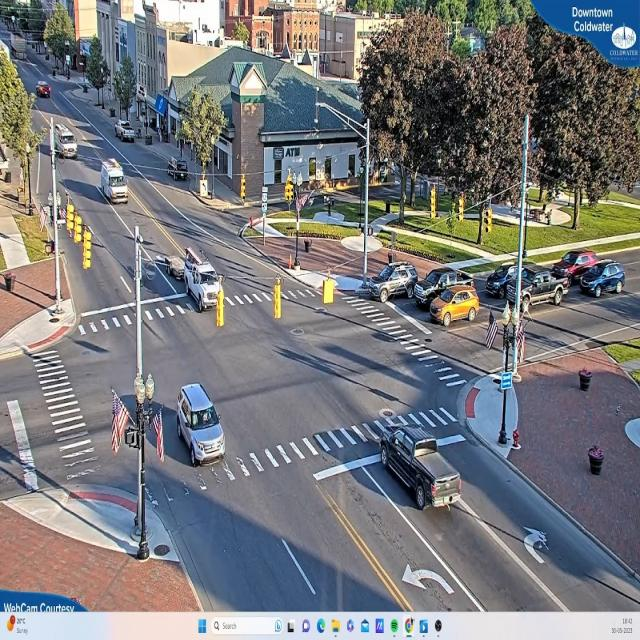car: (379, 422, 461, 509), (176, 384, 226, 467), (487, 266, 566, 308), (410, 266, 477, 308), (185, 263, 226, 313), (370, 265, 419, 302), (430, 290, 480, 326), (579, 264, 628, 298), (551, 251, 602, 280), (99, 156, 130, 203), (56, 134, 77, 157), (116, 122, 137, 144), (38, 84, 52, 99)
